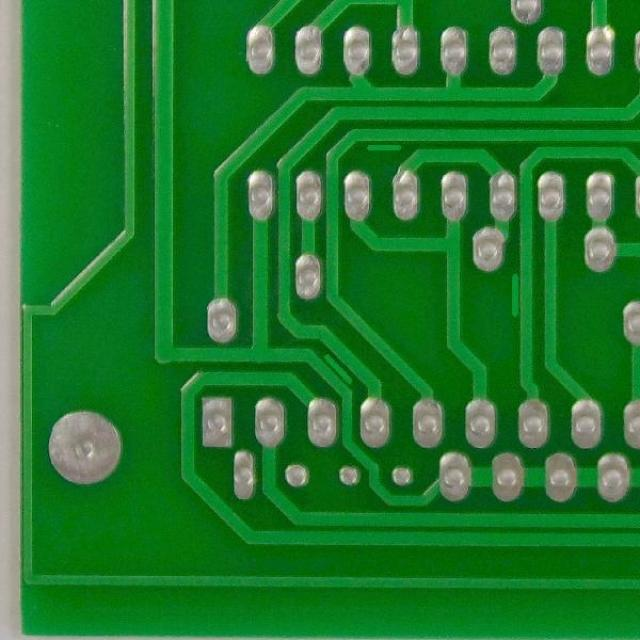spurious_copper: (320, 350, 359, 392), (361, 135, 406, 159), (503, 271, 524, 322)
